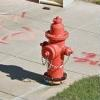a fire hydrant: (41, 22, 72, 83)
